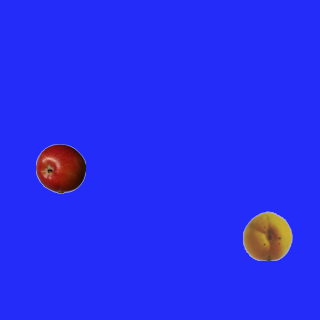Apple Braeburn: (35, 143, 85, 193)
Peach 2: (242, 210, 292, 260)
